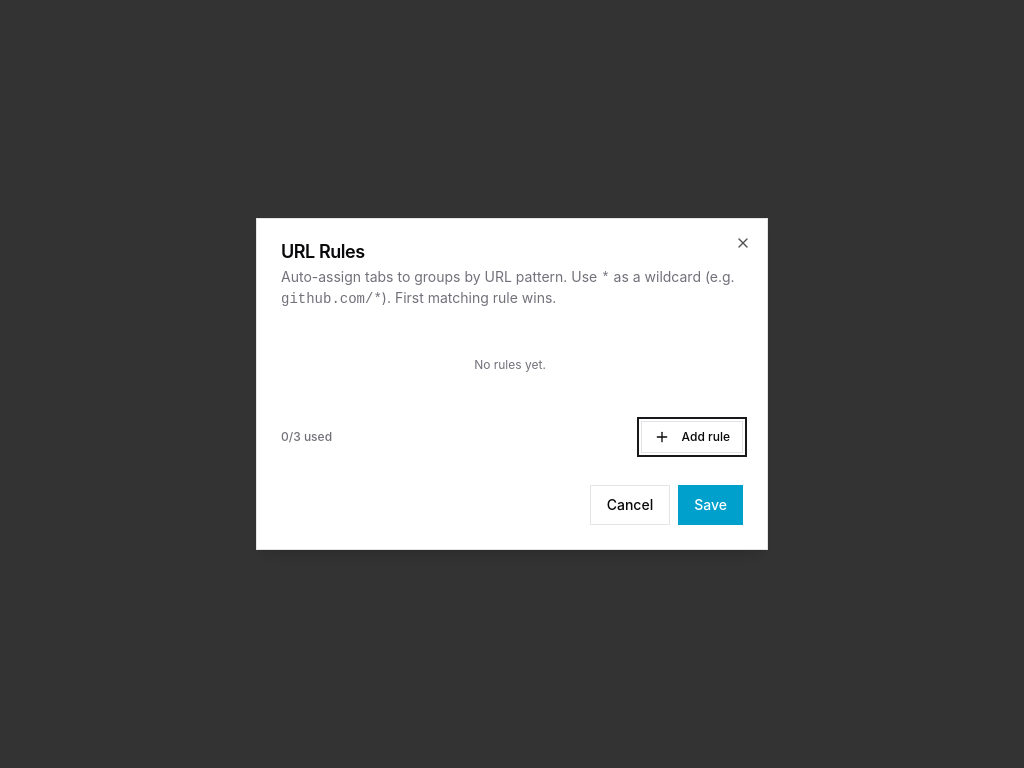
Test: UrlRulesModal — empty state › shows "No rules yet" and excludes the permanent Now Open group from the target dropdown
The image size is (1024, 768).
Check: the text "No rules yet." is shown, box left=474, top=357, right=546, bottom=372
What coordinates should you click on to do the following:
click the button "Add rule"
I would click on:
 (692, 437)
Its box is left=641, top=421, right=743, bottom=453.
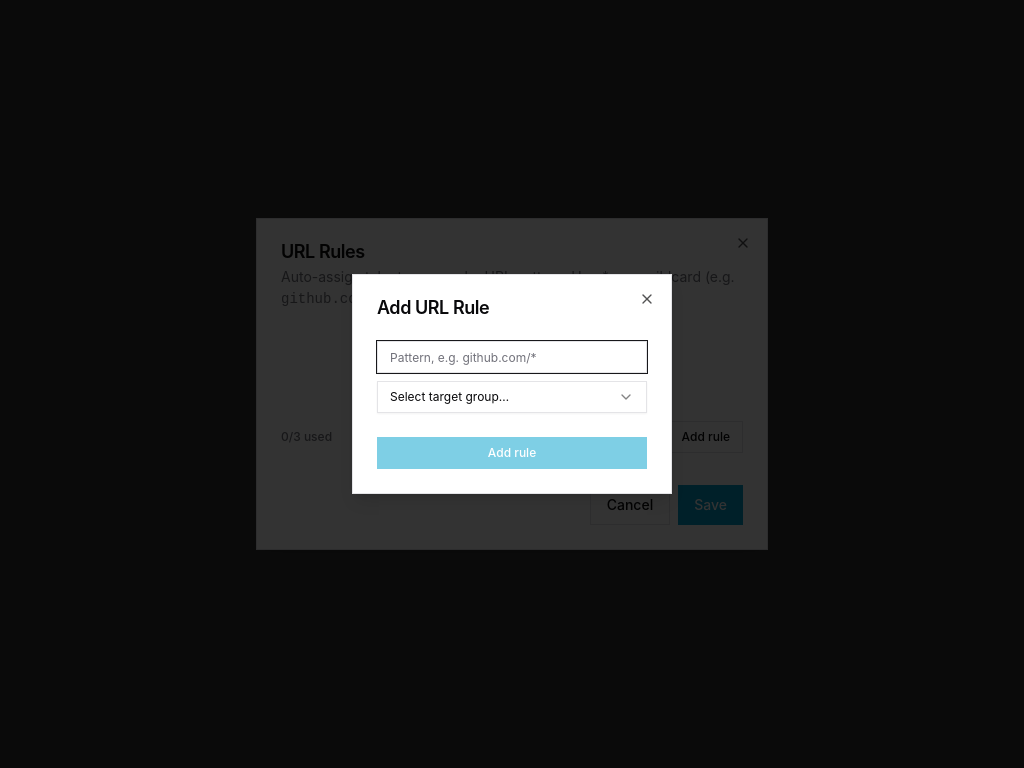
What coordinates should you click on to do the following:
click the dropdown
I would click on:
 (512, 397)
Its box is left=377, top=381, right=647, bottom=413.
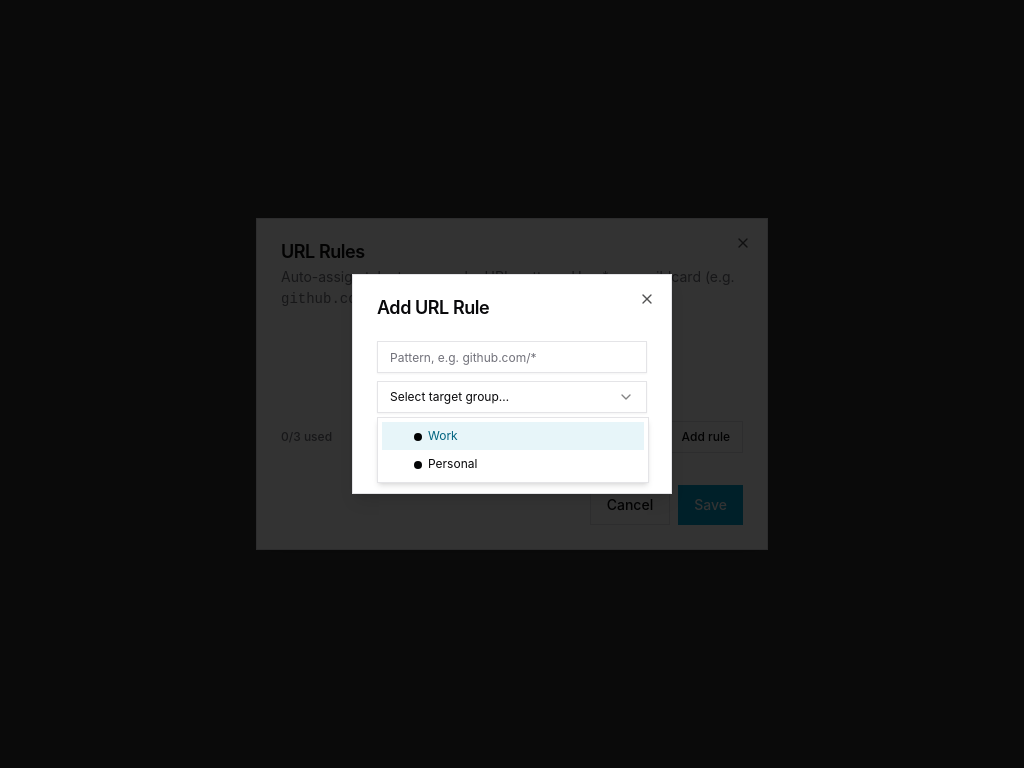
Check: the text "Work" is shown, box left=428, top=428, right=458, bottom=443
Check: the text "Personal" is shown, box left=428, top=456, right=477, bottom=471
